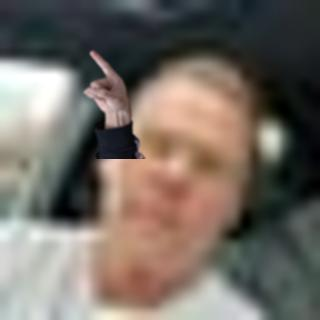IRRITATED: (78, 49, 132, 114)
